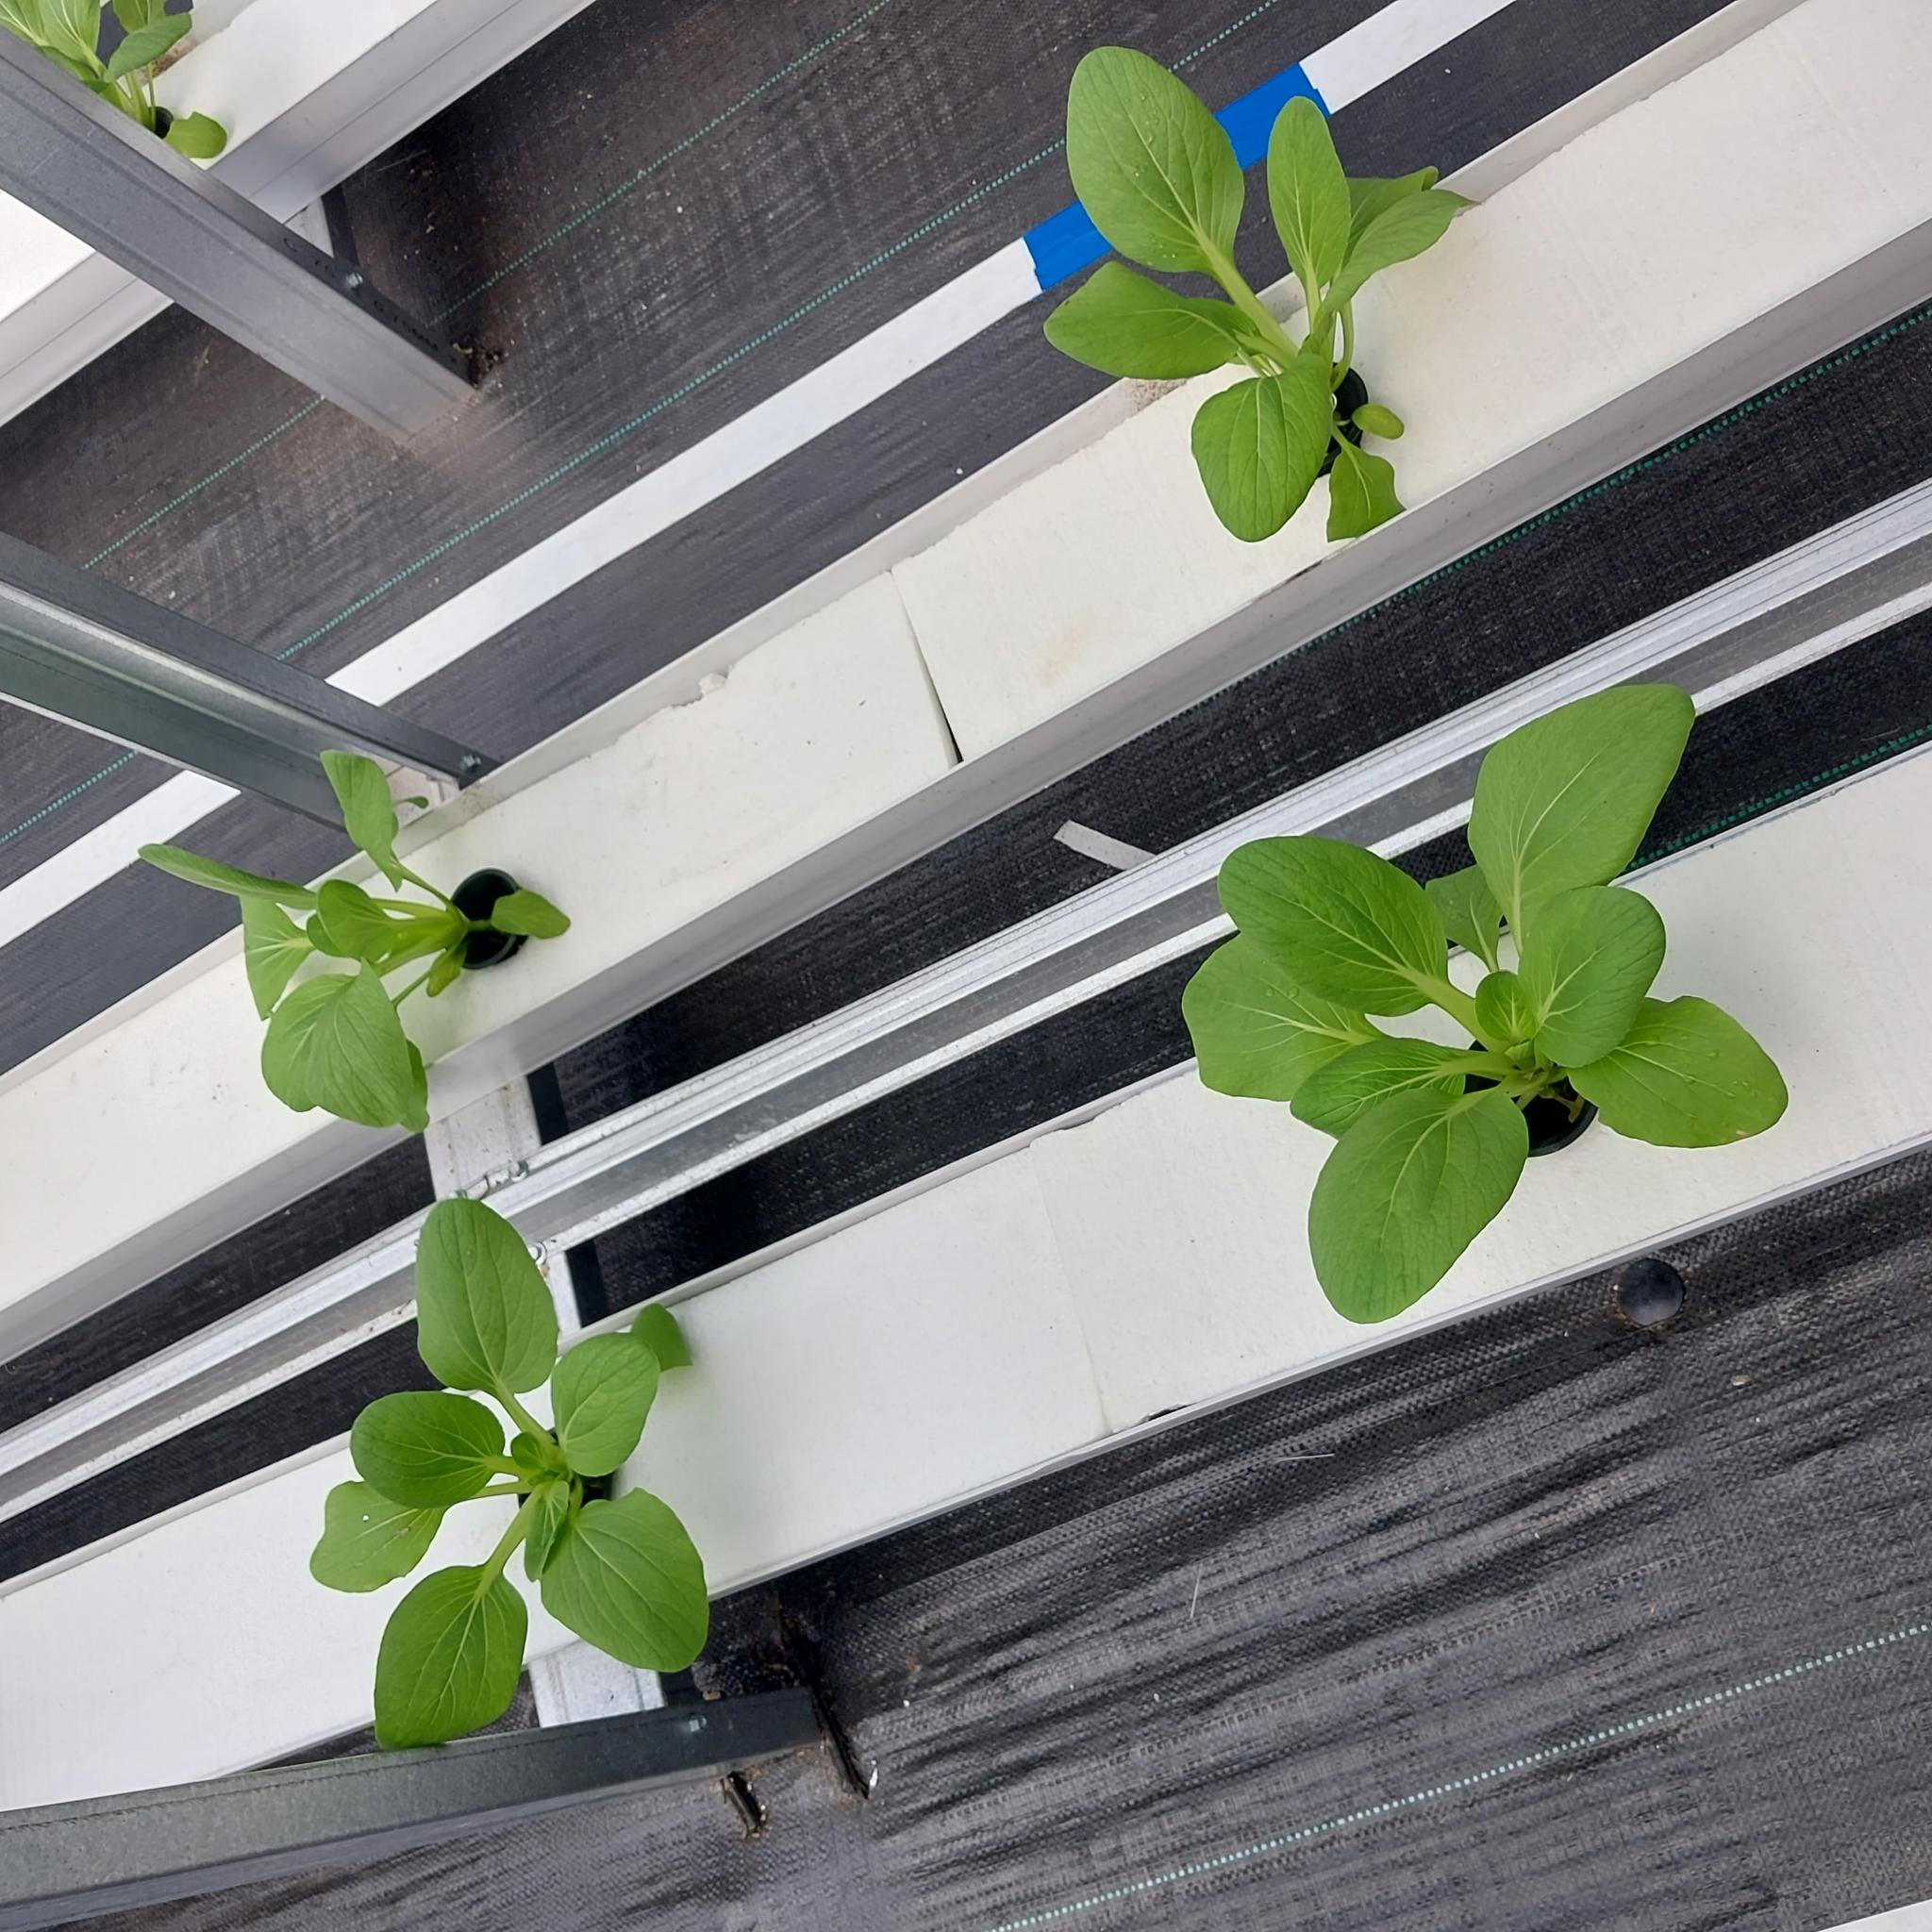Healthy-Pechay: (1463, 681, 1700, 961), (1203, 835, 1463, 1060), (1307, 1069, 1522, 1323), (1063, 42, 1247, 308), (1553, 994, 1790, 1146), (540, 1484, 709, 1675), (1499, 885, 1663, 1069), (373, 1557, 527, 1750), (260, 964, 428, 1138), (414, 1198, 554, 1405), (1192, 343, 1336, 541), (1320, 182, 1472, 326), (1269, 96, 1352, 349), (347, 1392, 517, 1511), (1288, 1033, 1476, 1139), (308, 1476, 458, 1591), (550, 1334, 663, 1476), (313, 883, 453, 973), (318, 750, 414, 881), (1323, 419, 1405, 540), (1430, 863, 1507, 966), (625, 1304, 694, 1375), (483, 888, 571, 939)
